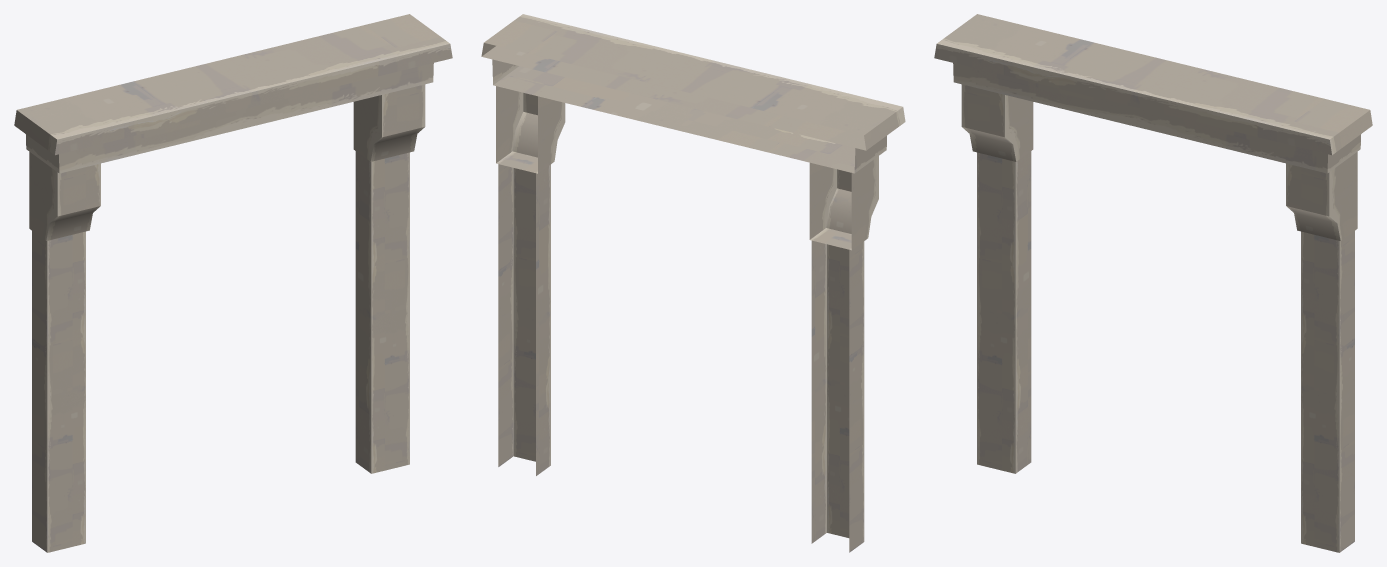
The model's file is MOD_Door_03_framedeco_01_03.fbx.
3 renders of one model, left to right at view 1: azimuth 30°, elevation 25°; view 2: azimuth 150°, elevation 25°; view 3: azimuth 330°, elevation 25°, orthographic. The views are drawn at different scales.
Visible parts, largest first — view 1: MOD_Door_03_framedeco_01_03; view 2: MOD_Door_03_framedeco_01_03; view 3: MOD_Door_03_framedeco_01_03.
Part boxes in pixels (x1,y1,x2,y2): MOD_Door_03_framedeco_01_03: (14,14,452,552); MOD_Door_03_framedeco_01_03: (481,14,905,552); MOD_Door_03_framedeco_01_03: (934,14,1372,552).
Size of the model in its own units: 275 by 288 by 48.62.
